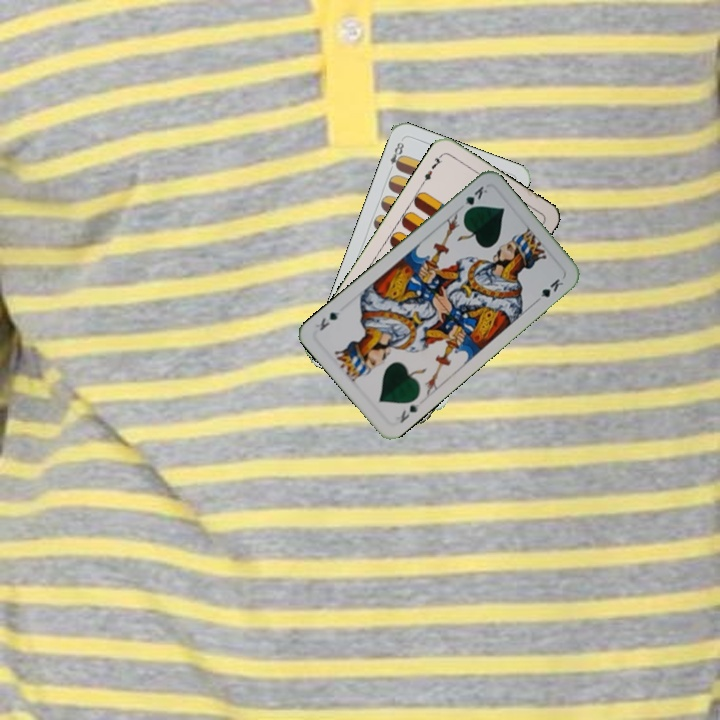E7: (418, 150, 445, 187)
E8: (385, 138, 407, 175)
GK: (455, 182, 490, 216), (396, 398, 423, 426)
